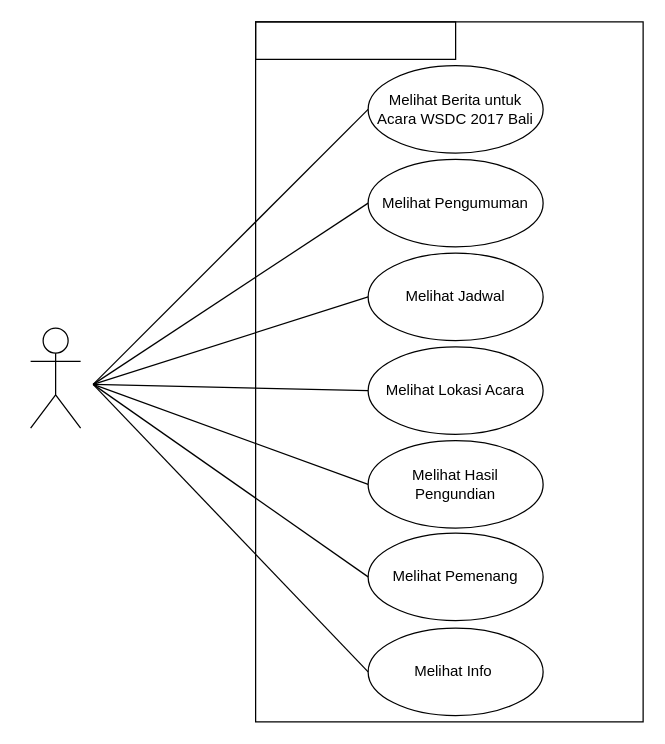
The diagram is 665 pixels wide and 744 high, and some of its shapes have lost their labels. Each missing label, with the box of its shape:
Aplikasi WSDC 2017 Bali: (254, 21, 456, 59)
Pengguna: (29, 327, 81, 428)
